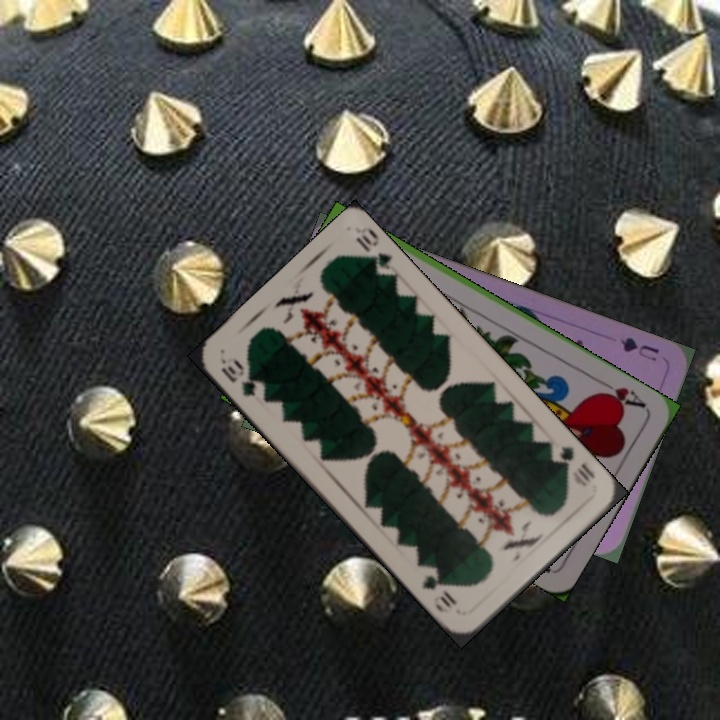G10: (551, 441, 599, 490), (217, 356, 261, 399)
GU: (616, 333, 662, 364)
HA: (593, 375, 649, 411)
